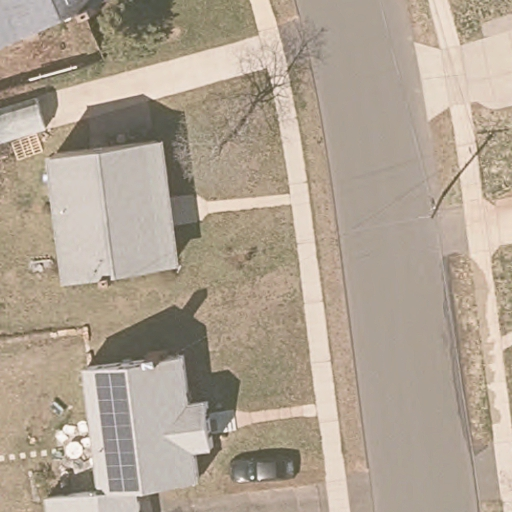DT: (418, 188, 448, 221)
